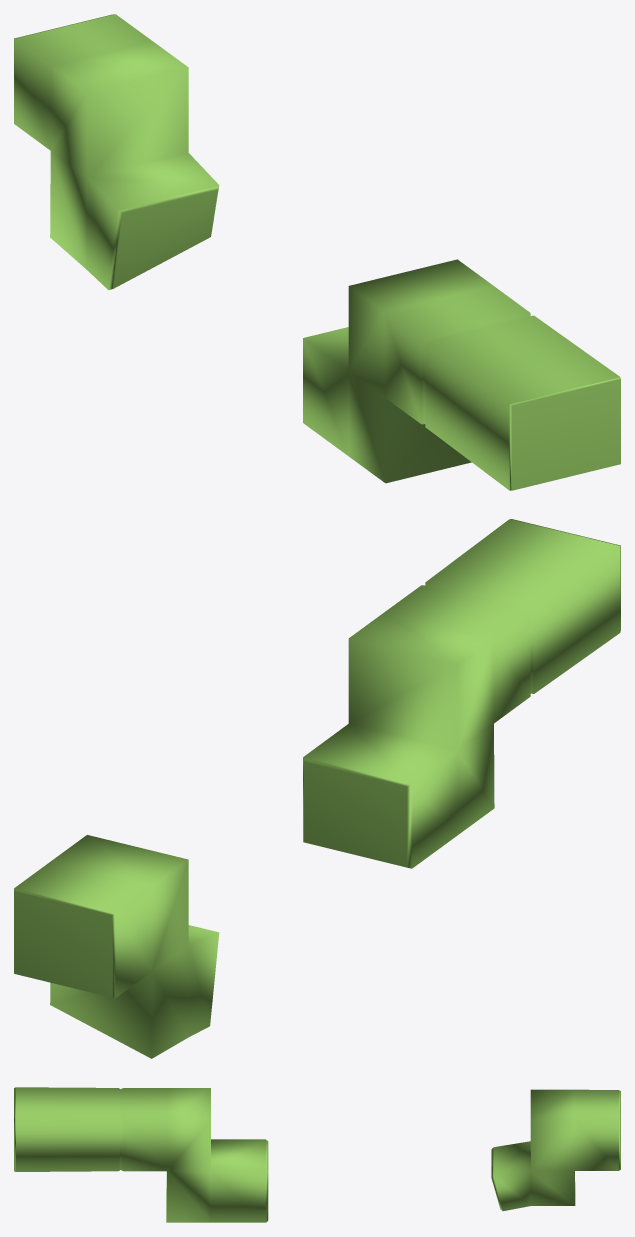
The model's file is Wall_Battlements_01A_Break_Lod0.fbx.
3 views of the same model, one above another, from view 1: azimuth 30°, elevation 25°; view 2: azimuth 150°, elevation 25°; view 3: azimuth 270°, elevation 25° (orthographic). The views are drawn at different scales.
Visible parts, largest first — view 1: Wall_Battlements_01A_Break_Lod0; view 2: Wall_Battlements_01A_Break_Lod0; view 3: Wall_Battlements_01A_Break_Lod0.
Part boxes in pixels (x1,y1,x2,y2): Wall_Battlements_01A_Break_Lod0: [14, 14, 620, 490]; Wall_Battlements_01A_Break_Lod0: [14, 519, 620, 1058]; Wall_Battlements_01A_Break_Lod0: [14, 1087, 620, 1222].
Bounding box in the file's own units: 38.19 × 60.64 × 300.
